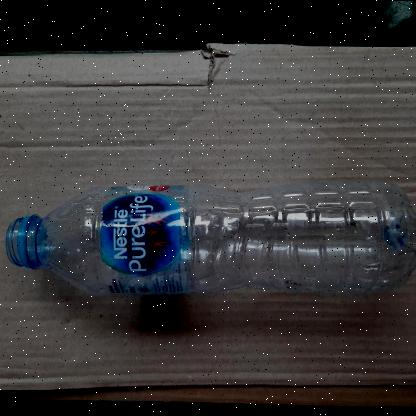Plastic Bottle: (4, 183, 416, 297)
